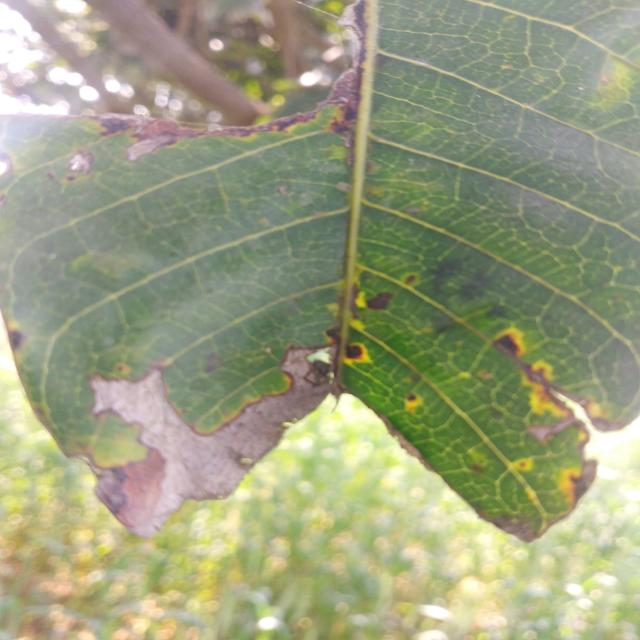Anthracnose: (489, 319, 601, 501), (340, 329, 383, 368)
Bacterial Cancer: (68, 366, 307, 525), (100, 115, 361, 152)
